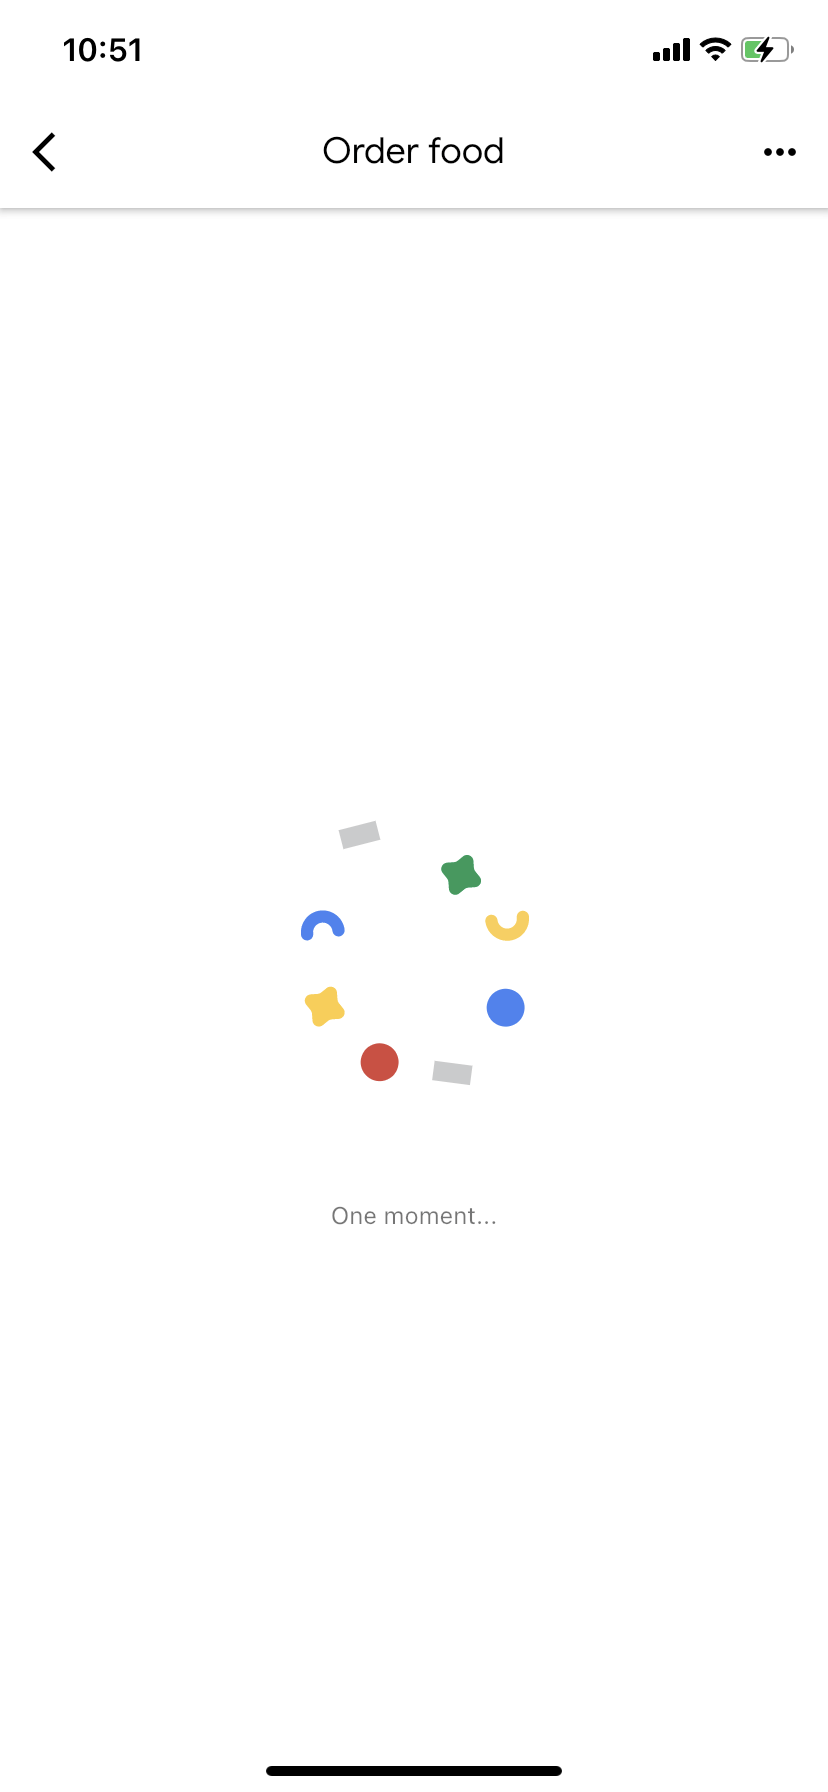Buttons: (722, 101, 825, 200), (8, 101, 102, 201)
